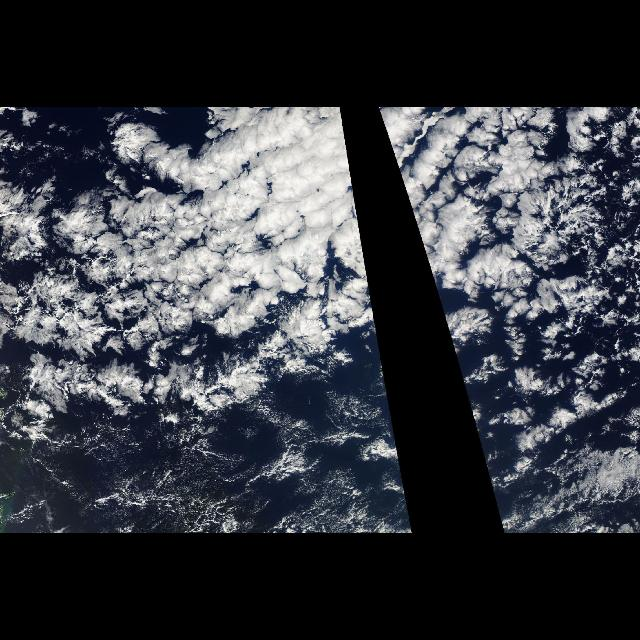Flower: (78, 186, 300, 370), (514, 188, 628, 467)
